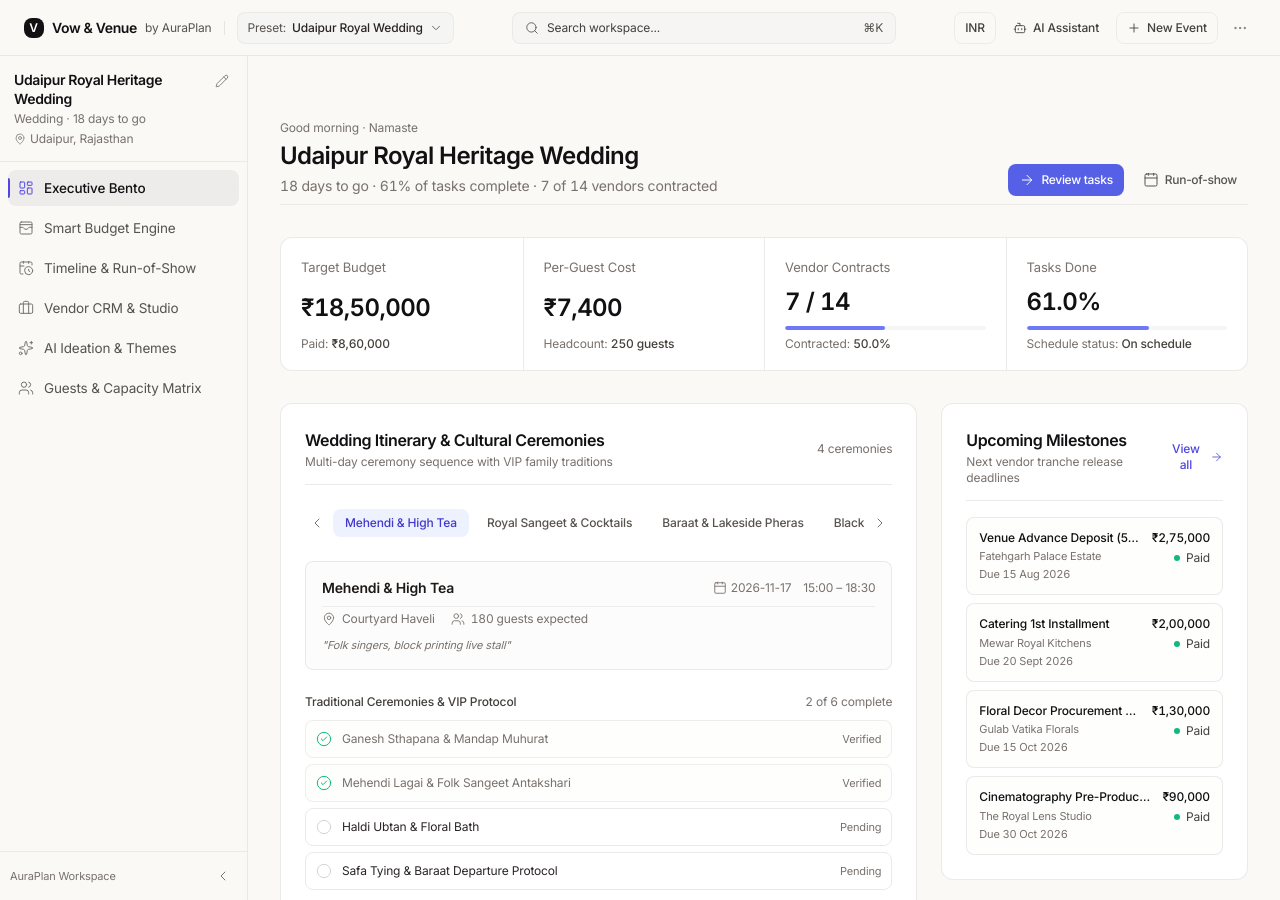
CommandPalette Keyboard Navigation and Execution › filters commands, navigates with Arrow keys, and executes on Enter
The image size is (1280, 900).
// Open via Ctrl+K / Cmd+K
Press k
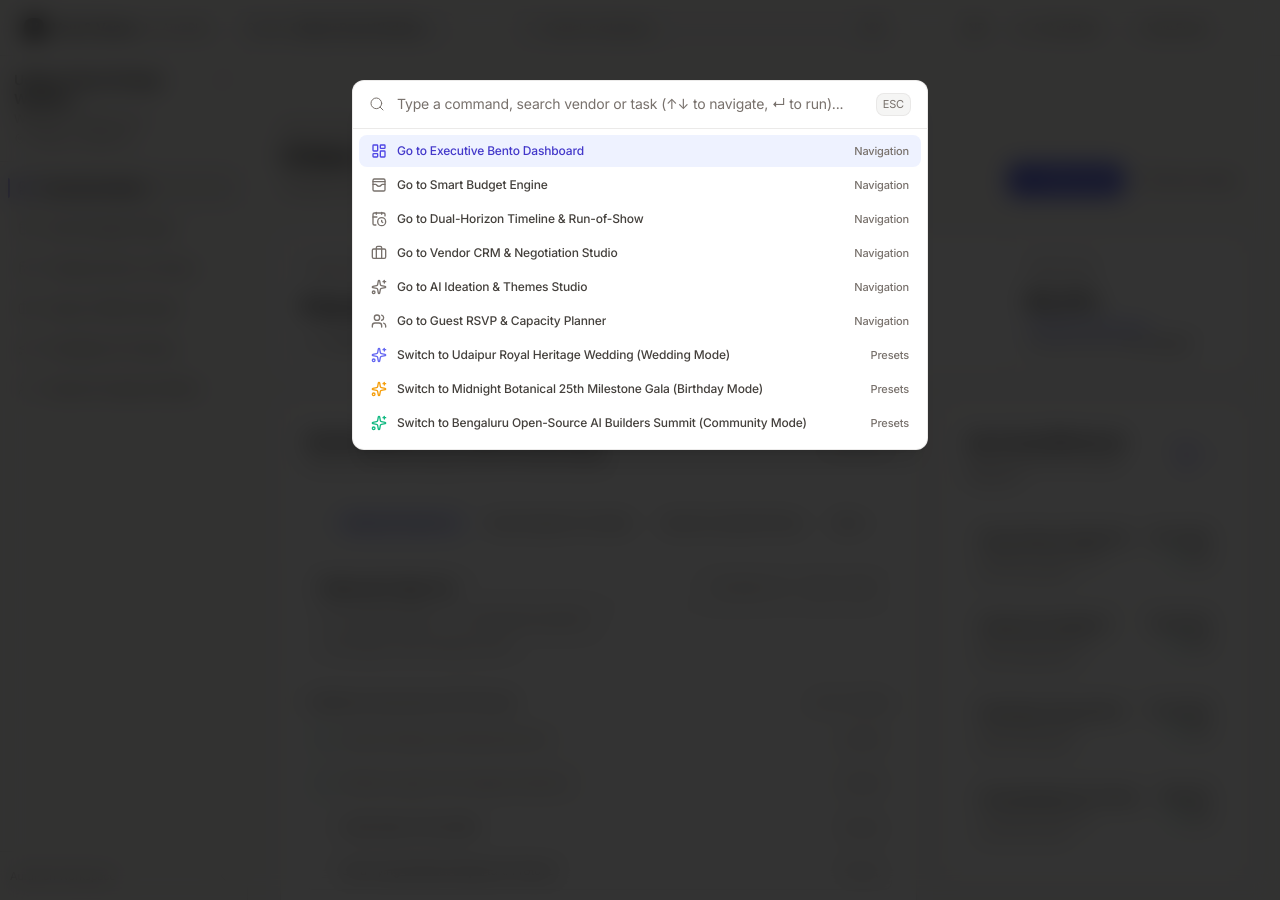
Result: the dialog named "Command Palette" is shown
Replace the text in the field with placeholder "Type a command" with "Negotiation Studio" at (630, 104), box x1=397 y1=94 x2=864 y2=114
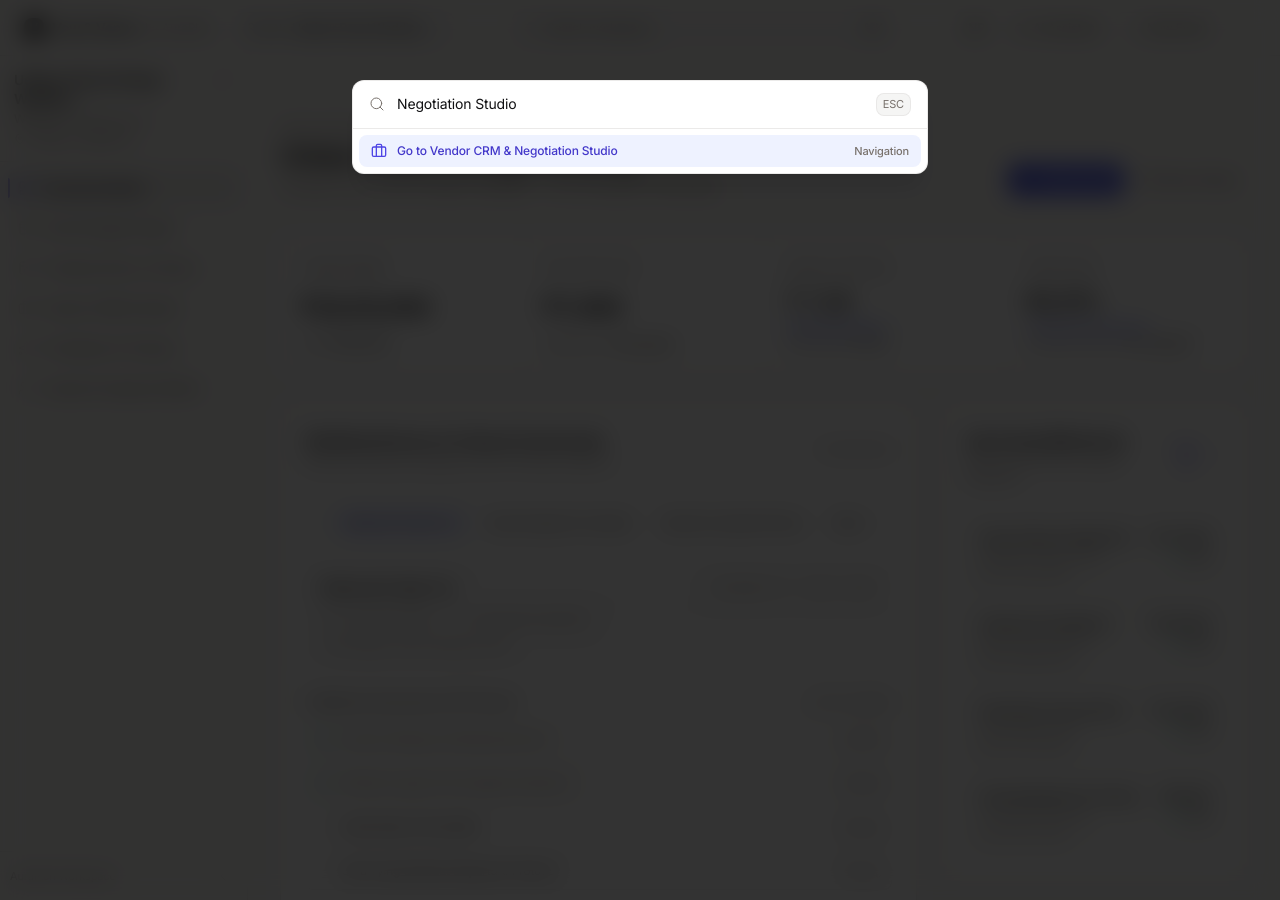
Result: the option "Go to Vendor CRM & Negotiation Studio Navigation" is shown at x1=359 y1=134 x2=921 y2=166
// Navigate with ArrowDown
Press ArrowDown
Press ArrowUp
// Execute with Enter
Press Enter
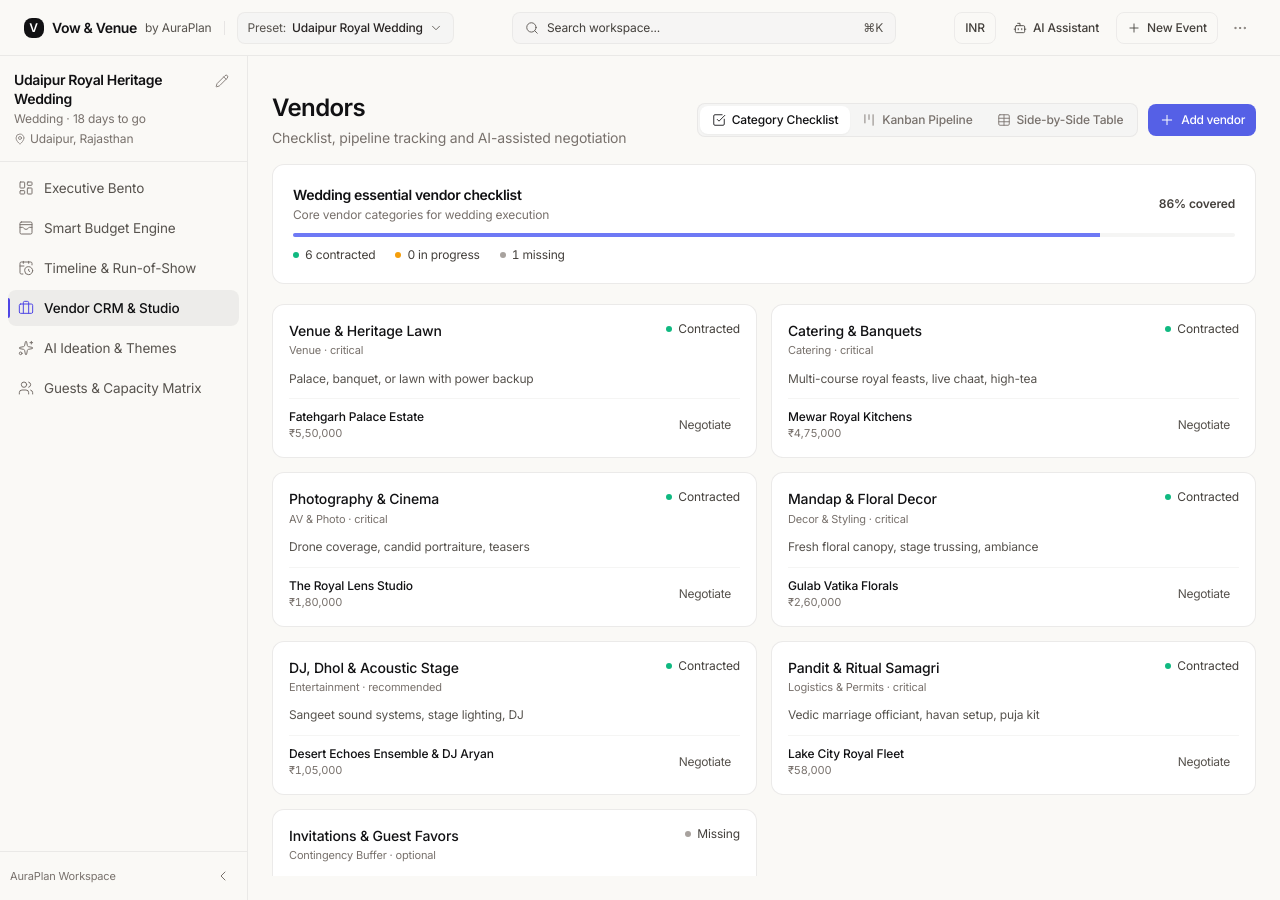
Result: the text "Category Checklist" is shown at x1=732 y1=112 x2=838 y2=128
